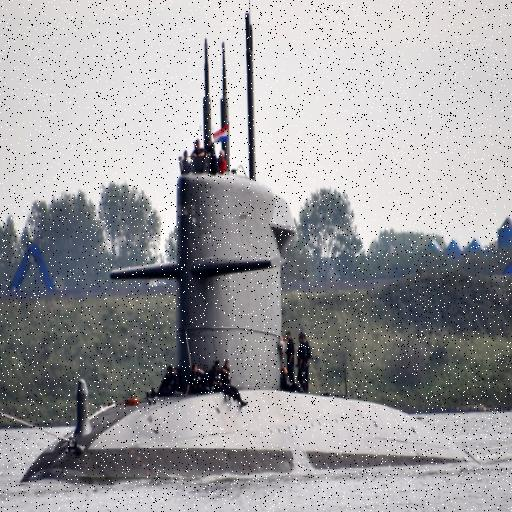submarine: (21, 1, 475, 485)
